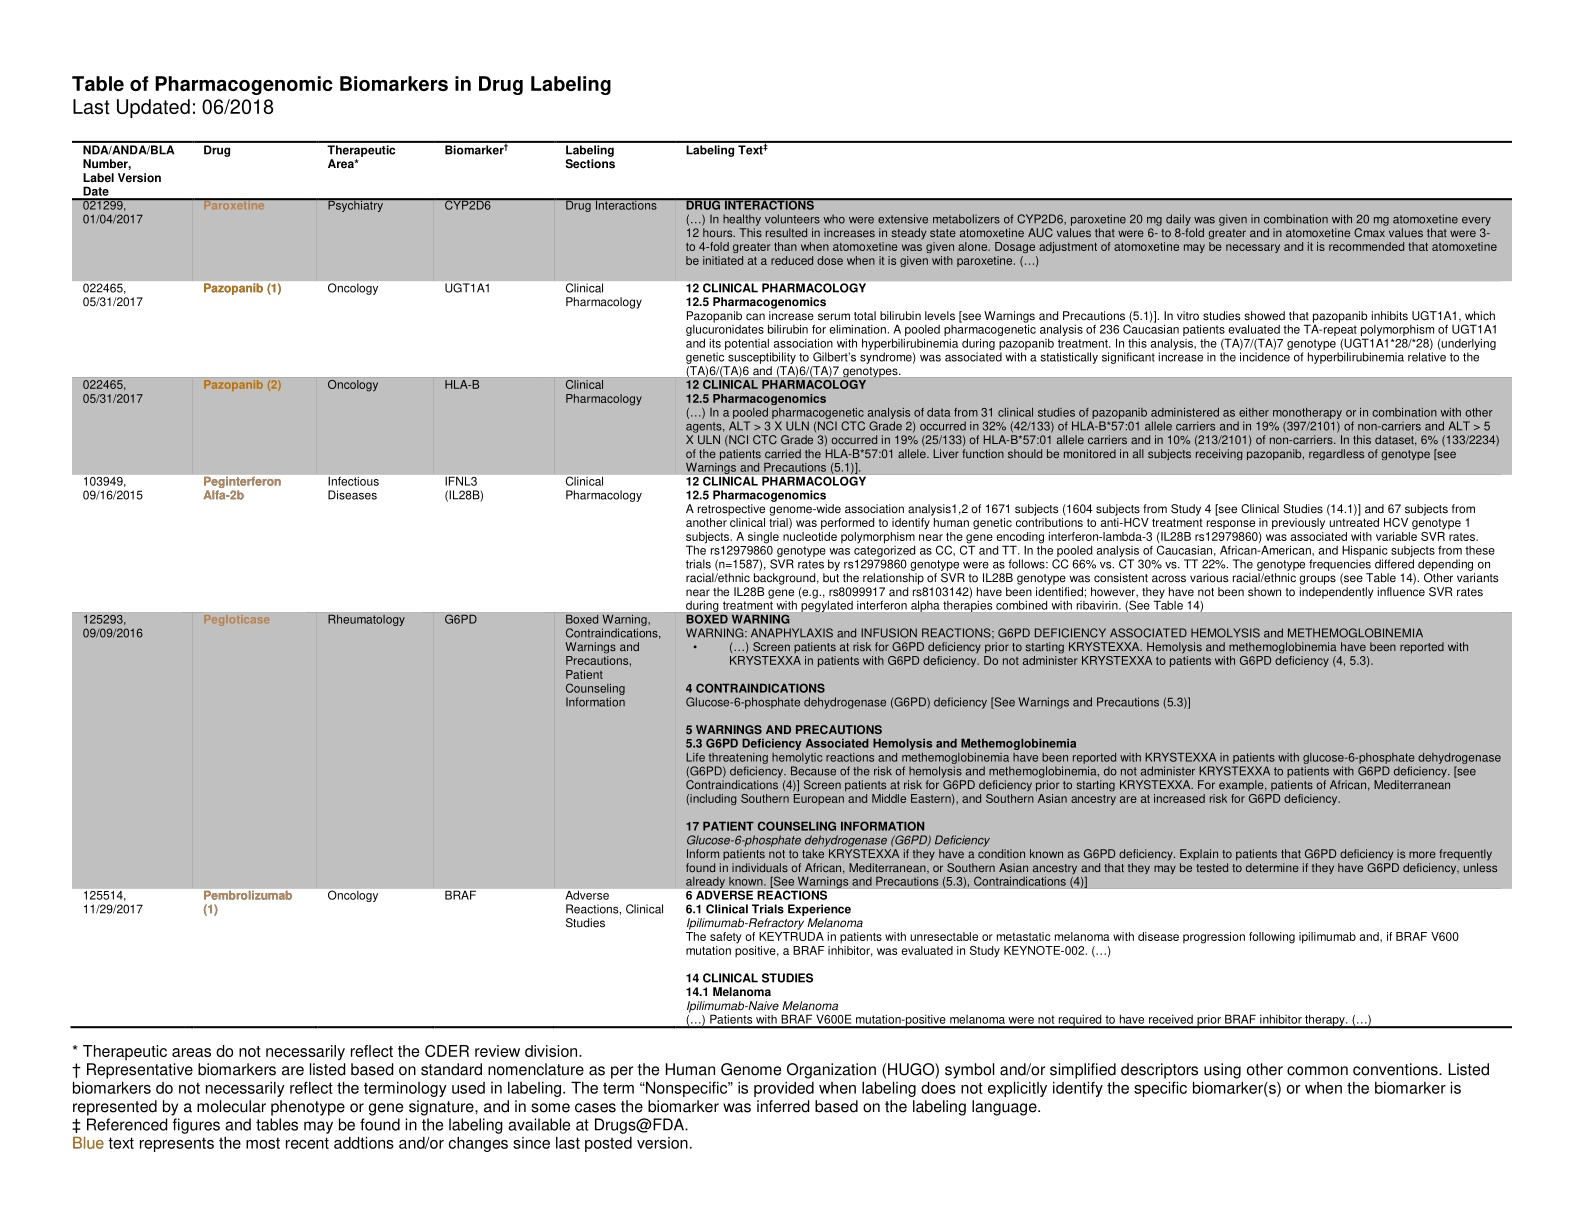partial_lined: (68, 139, 1515, 1029)
